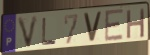7: (63, 13, 79, 46)
E: (104, 8, 125, 44)
H: (126, 7, 146, 41)
L: (42, 17, 58, 47)
V: (16, 15, 40, 52), (82, 11, 104, 44)
